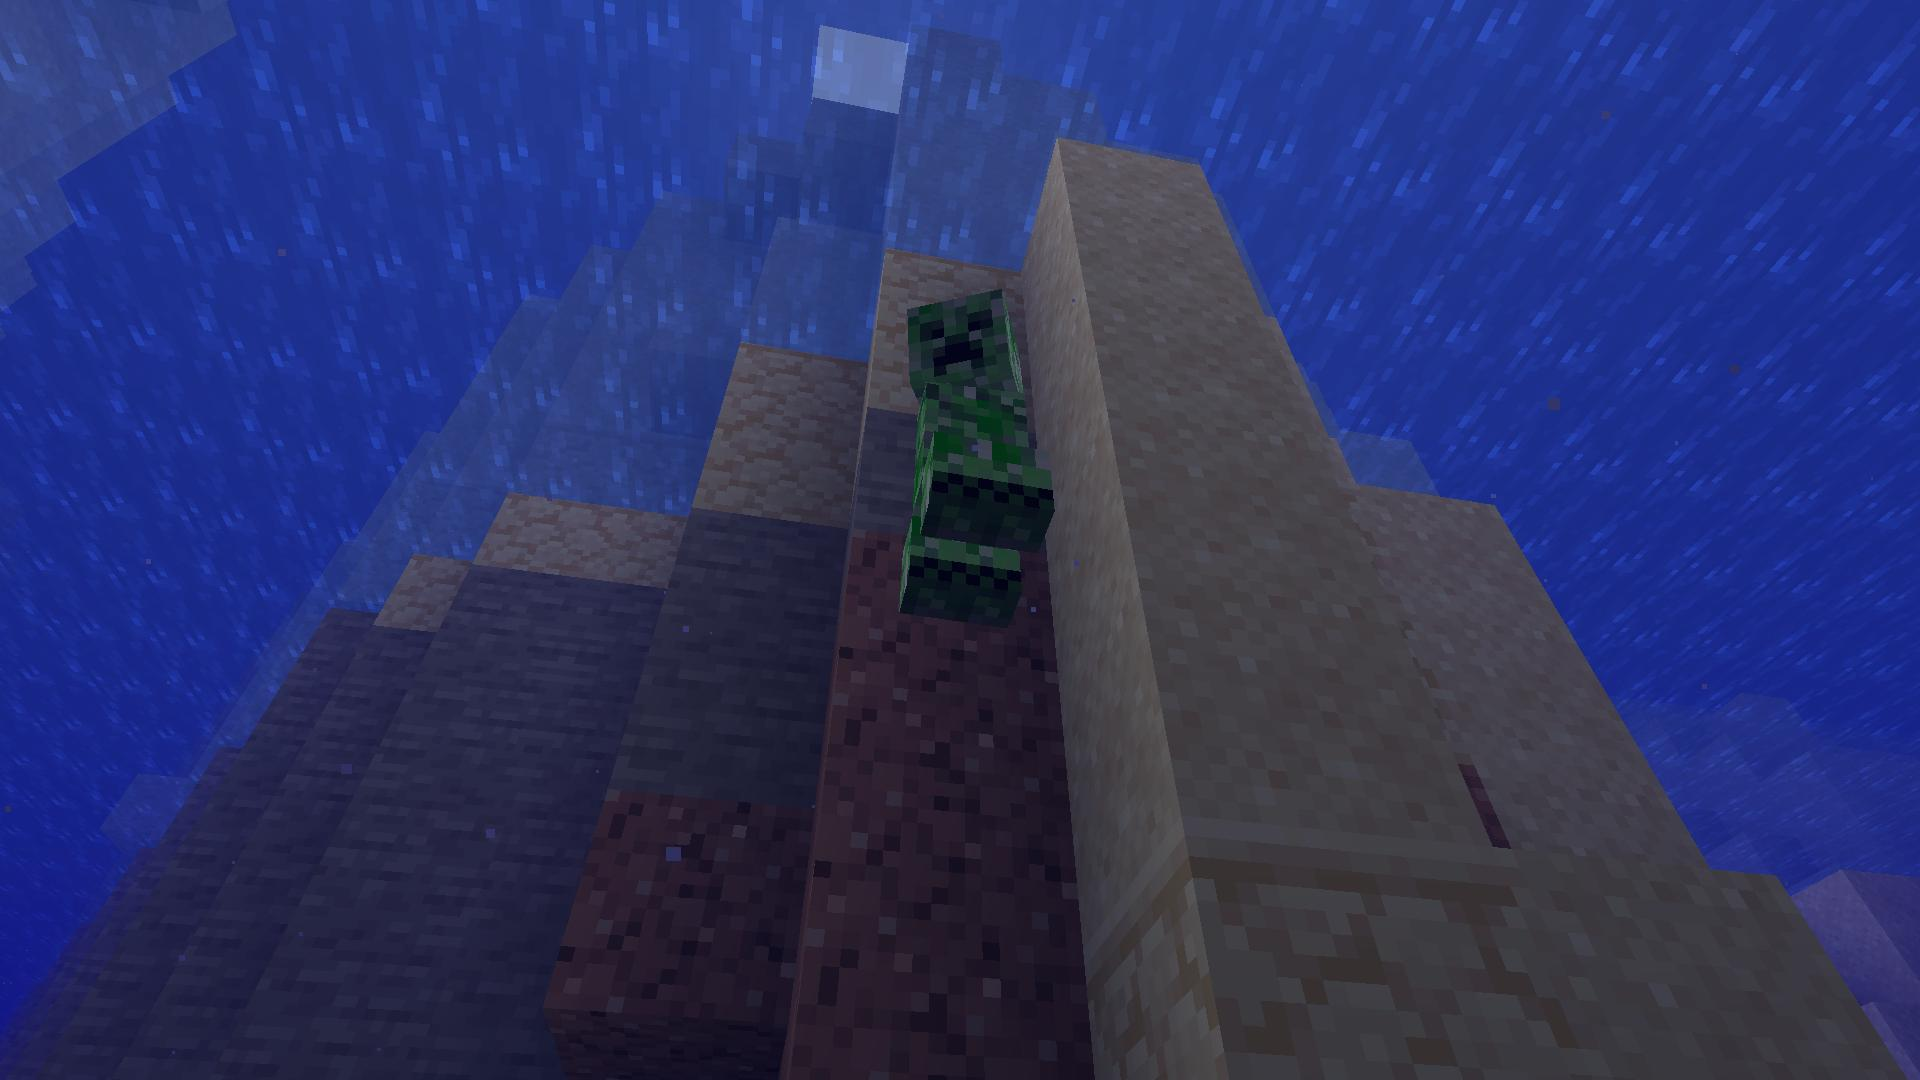creeper: (885, 293, 1069, 628)
